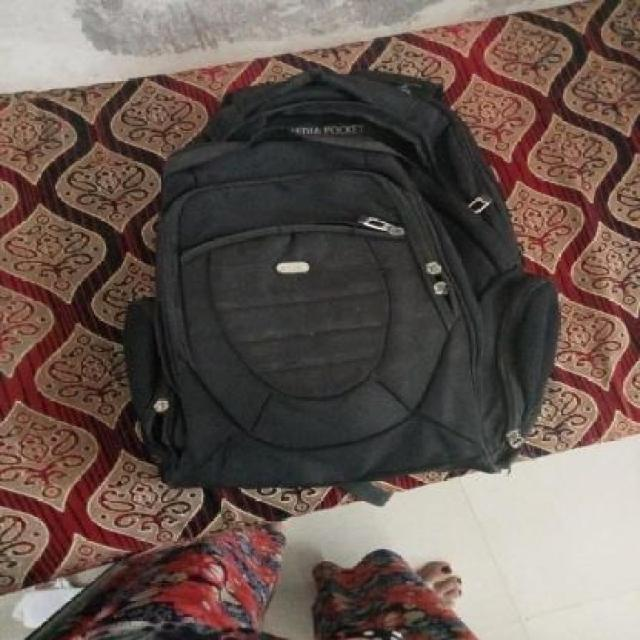backpack: (119, 64, 562, 493)
